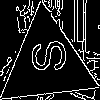S: (22, 38, 68, 76)
